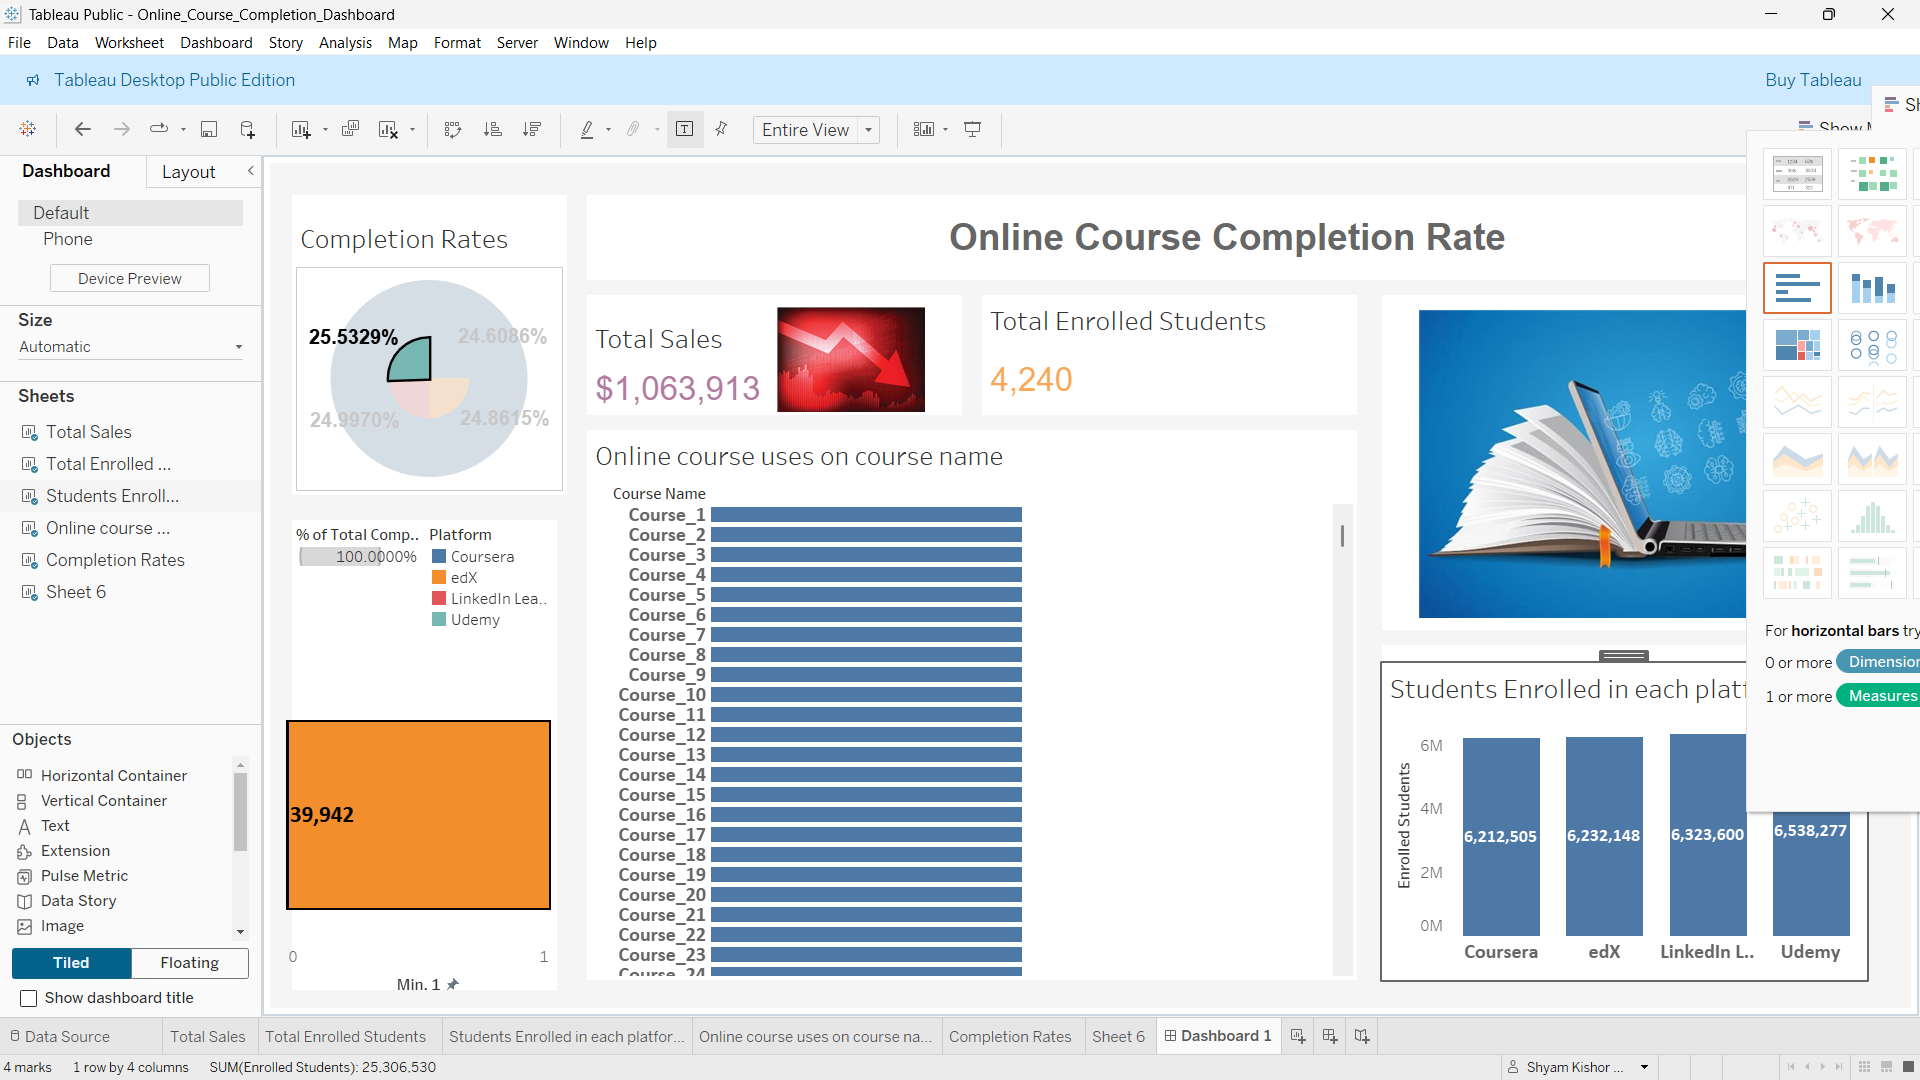

This screenshot's page, from the dashboard's own definition file:
{"tool":"tableau","page":{"name":"Dashboard 1","canvas":[1000,1000],"units":"permille","ordinal":0},"visuals":[{"type":"text","box":[18.1,46.5,166,20.9]},{"type":"text","box":[196.1,46.5,773.1,98.7]},{"type":"worksheet","title":"Completion Rates","mark":"Pie","rows":["Calculation_1268326250357268481","Calculation_1268326250357293059"],"box":[18.1,67.4,166,327.5]},{"type":"text","box":[196.1,162.6,226.3,20.9]},{"type":"worksheet","title":"Total Enrolled Students","mark":"Automatic","box":[434.5,162.6,226.3,139.4]},{"type":"text","box":[675.9,162.6,292.7,389.1]},{"type":"image","param":"C:/Users/shyam/Desktop/Online-Course-Completion-Tableau-Dashboard/Online_Course_","box":[310.8,176.5,109.8,122]},{"type":"worksheet","title":"Total Sales","mark":"Automatic","box":[196.1,183.5,226.3,118.5]},{"type":"worksheet","title":"Online course uses on course name","mark":"Automatic","rows":["Course_Name"],"cols":["online!courses!uses_14A2A35FABE74F1A88B496596CCBA793"],"box":[196.1,319.4,464.7,638.8]},{"type":"legend","title":"Completion Rates","param":"[federated.0p1ye980rs8z131bw74f20ufp4d9].[pcto:sum:Completion_Rate (%):qk]","box":[18.1,423.9,80,545.9]},{"type":"legend","title":"Completion Rates","param":"[federated.0p1ye980rs8z131bw74f20ufp4d9].[none:Platform:nk]","box":[98.1,423.9,80,545.9]},{"type":"text","box":[675.9,569.1,292.7,20.9]},{"type":"worksheet","title":"Students Enrolled in each platform","mark":"Automatic","rows":["Enrolled_Students"],"cols":["Platform"],"box":[675.9,590,292.7,368.2]},{"type":"worksheet","title":"Sheet 6","mark":"Automatic","rows":["Completion_Rate (%)"],"cols":["Calculation_1268326250366951429"],"box":[14.5,622.5,159.9,361.2]}]}

Visuals, with their boxes on the dashboard's canvas, which has no fixed pixel size, in thousandths of its width and height (x1, y1, x2, y2). These are canvas units, not pixel positions in the 1920x1080 screenshot, which may show the page scaled, cropped or inside an application window:
text: <bbox>18, 46, 184, 67</bbox>
text: <bbox>196, 46, 969, 145</bbox>
"Completion Rates" worksheet (Pie marks): <bbox>18, 67, 184, 395</bbox>
text: <bbox>196, 163, 422, 184</bbox>
"Total Enrolled Students" worksheet: <bbox>434, 163, 661, 302</bbox>
text: <bbox>676, 163, 969, 552</bbox>
image: <bbox>311, 176, 421, 298</bbox>
"Total Sales" worksheet: <bbox>196, 184, 422, 302</bbox>
"Online course uses on course name" worksheet: <bbox>196, 319, 661, 958</bbox>
"Completion Rates" legend: <bbox>18, 424, 98, 970</bbox>
"Completion Rates" legend: <bbox>98, 424, 178, 970</bbox>
text: <bbox>676, 569, 969, 590</bbox>
"Students Enrolled in each platform" worksheet: <bbox>676, 590, 969, 958</bbox>
"Sheet 6" worksheet: <bbox>14, 622, 174, 984</bbox>
